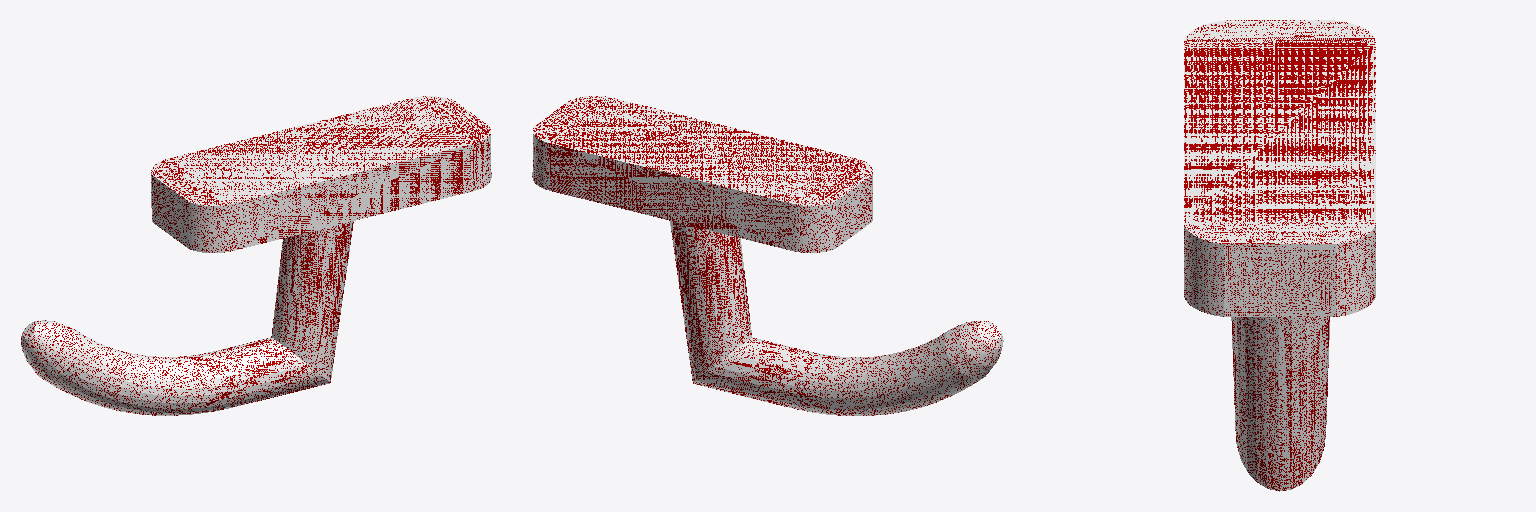
robot.urdf — window:
<?xml version="1.0" ?>
<robot name="window">
	<link name="base"/>
	<link name="link_0">
		<visual name="out-frame">
			<origin xyz="0 0 0"/>
			<geometry>
				<mesh filename="texture_dae/untitled.dae" scale="1 1 1"/>
			</geometry>
		</visual>
		<collision>
			<origin xyz="0 0 0"/>
			<geometry>
				<mesh filename="texture_dae/untitled.dae" scale="1 1 1"/>
			</geometry>
		</collision>
	</link>
	<joint name="joint_0" type="fixed">
		<origin rpy="1.570796326794897 0 -1.570796326794897" xyz="0 0 0"/>
		<child link="link_0"/>
		<parent link="base"/>
	</joint>
	<link name="link_1">
		<visual name="surf-board">
			<origin xyz="0.23565320670604706 -0.34836465252022536 0"/>
			<geometry>
				<mesh filename="texture_dae/untitled1.dae" scale="1 1 1"/>
			</geometry>
		</visual>
		<collision>
			<origin xyz="0.23565320670604706 -0.34836465252022536 0"/>
			<geometry>
				<mesh filename="texture_dae/untitled1.dae" scale="1 1 1"/>
			</geometry>
		</collision>
	</link>
	<joint name="joint_1" type="revolute">
		<origin xyz="-0.23565320670604706 0.34836465252022536 0"/>
		<axis xyz="0 -1 0"/>
		<child link="link_1"/>
		<parent link="link_0"/>
		<limit lower="0" upper="1.5079644737231006"/>
	</joint>
	<link name="link_2">
		<visual name="handle">
			<origin xyz="0 0 0"/>
			<geometry>
				<mesh filename="texture_dae/9969513-handle.dae" scale="1.374163851745355 1.374163851745355 1.374163851745355"/>
			</geometry>
		</visual>
		<collision>
			<origin xyz="0 0 0"/>
			<geometry>
				<mesh filename="texture_dae/9969513-handle.dae" scale="1.374163851745355 1.374163851745355 1.374163851745355"/>
			</geometry>
		</collision>
	</link>
	<joint name="joint_2" type="revolute">
		<origin xyz="0 0 0"/>
		<child link="link_2"/>
		<parent link="link_3"/>
		<axis xyz="0 0 1"/>
		<limit lower="0" upper="1.5079644737231006"/>
	</joint>
	<link name="link_3">
		<visual name="lock">
			<origin xyz="0 0 0"/>
			<geometry>
				<mesh filename="texture_dae/9969513-lock.dae" scale="1.374163851745355 1.374163851745355 1.374163851745355"/>
			</geometry>
		</visual>
		<collision>
			<origin xyz="0 0 0"/>
			<geometry>
				<mesh filename="texture_dae/9969513-lock.dae" scale="1.374163851745355 1.374163851745355 1.374163851745355"/>
			</geometry>
		</collision>
	</link>
	<joint name="joint_3" type="fixed">
		<origin xyz="0.44409596992656586 -0.34836465252022536 0.00917094583565014"/>
		<child link="link_3"/>
		<parent link="link_1"/>
	</joint>
</robot>

--- What the picture shows (computed from the rendered views, not written in the file) ---
The picture shows the robot from 3 angles, left to right: view 1: azimuth 30°, elevation 25°; view 2: azimuth 150°, elevation 25°; view 3: azimuth 270°, elevation 25°; orthographic projection.
Model window with 5 links and 4 joints (2 revolute, 2 fixed), rooted at base, posed every joint at zero.
Links seen in each view (by area): view 1: link_3, link_2; view 2: link_3, link_2; view 3: link_3, link_2.
Link boxes in pixels (x1,y1,x2,y2): link_3: (151, 96, 491, 252); link_2: (21, 221, 353, 415); link_3: (532, 96, 872, 252); link_2: (670, 221, 1003, 415); link_3: (1184, 20, 1375, 316); link_2: (1231, 317, 1329, 491).
Size in the robot's own frame: 0.2045 by 0.0493 by 0.1011 metres.
Meshes: 4 distinct files referenced, 2 mesh visuals loaded (2 Collada DAE); not drawn: 2 (reference not matched to a file when rendering).
